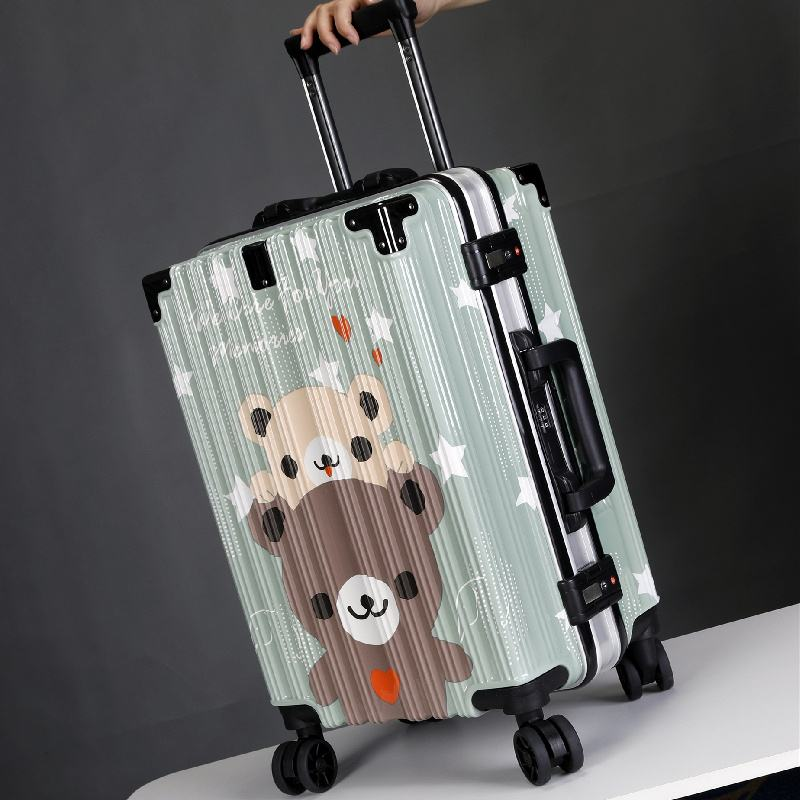box: (142, 163, 658, 730)
handle: (508, 329, 616, 535)
lock: (557, 554, 623, 626), (461, 226, 528, 289), (529, 392, 561, 443)
wheel: (512, 716, 585, 787), (272, 740, 338, 796), (616, 639, 674, 701)
